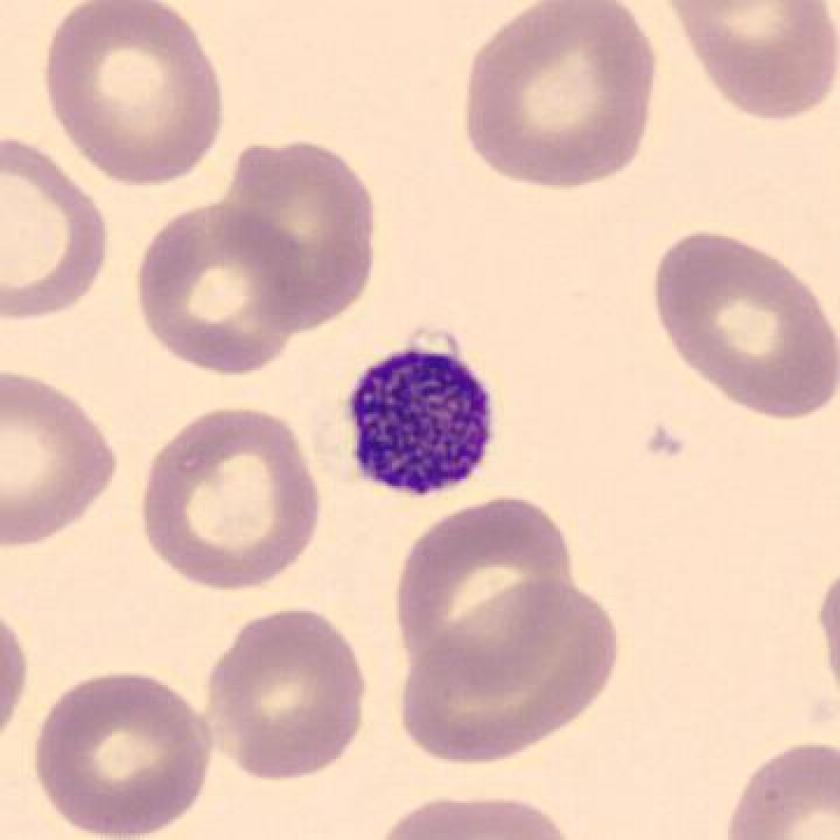platelets: (342, 341, 505, 506)
